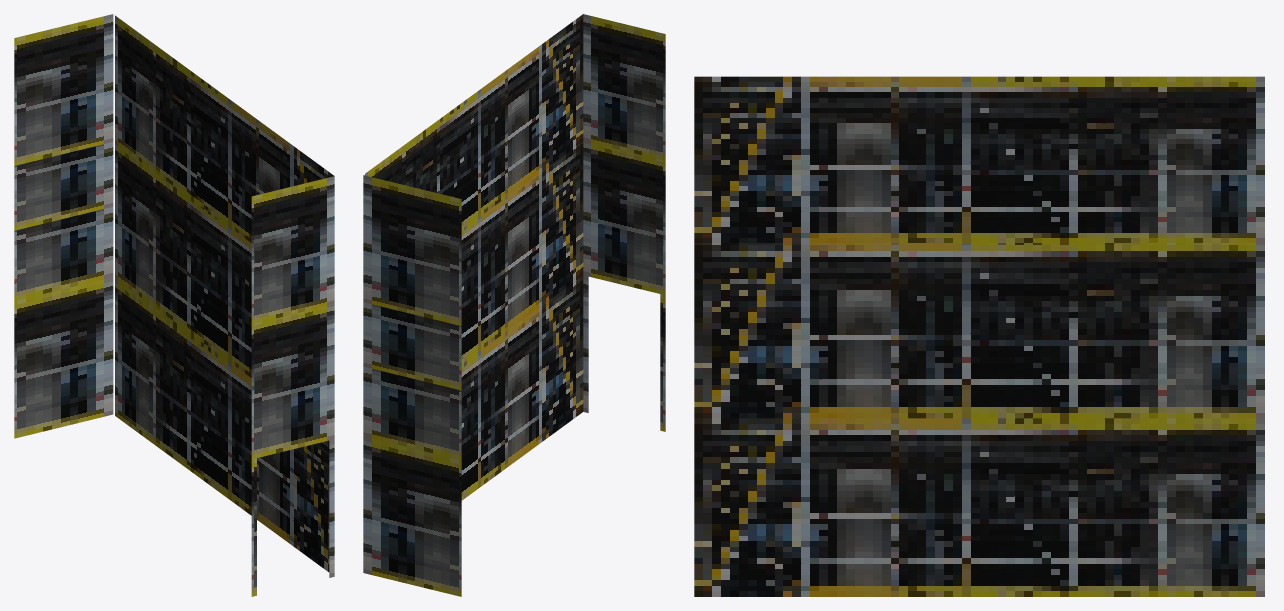
Rendered from env_scaffolding_large.glb.
The picture shows the model from 3 angles, left to right: view 1: azimuth 30°, elevation 25°; view 2: azimuth 150°, elevation 25°; view 3: azimuth 270°, elevation 25°; orthographic projection. The views are drawn at different scales.
Visible parts, largest first — view 1: env_scaffolding_large; view 2: env_scaffolding_large; view 3: env_scaffolding_large.
Boxes of the visible parts, box(x1,y1,x2,y2) form: env_scaffolding_large: box(14, 14, 334, 596); env_scaffolding_large: box(363, 14, 665, 596); env_scaffolding_large: box(694, 76, 1264, 596).
Bounding box in the file's own units: 0.00676 × 0.0261 × 0.0262.
Materials: 1 (1 with a texture image).
